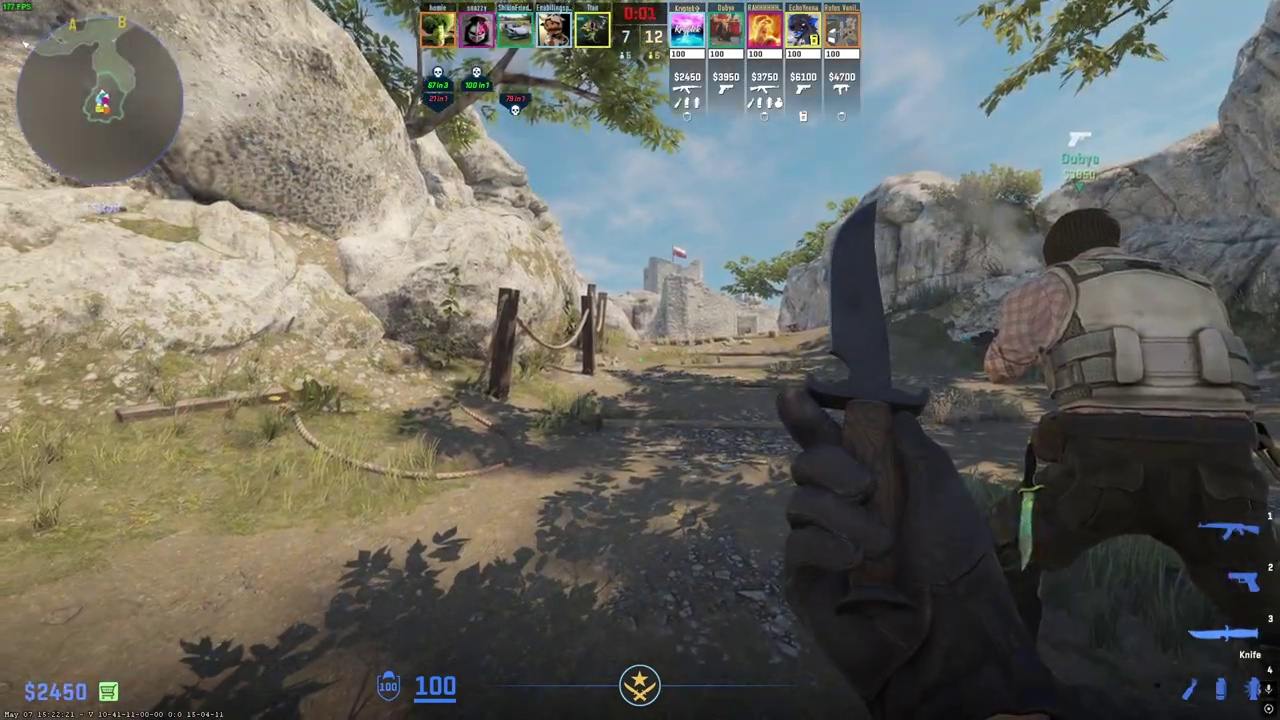Terrorist: (996, 208, 1279, 694)
